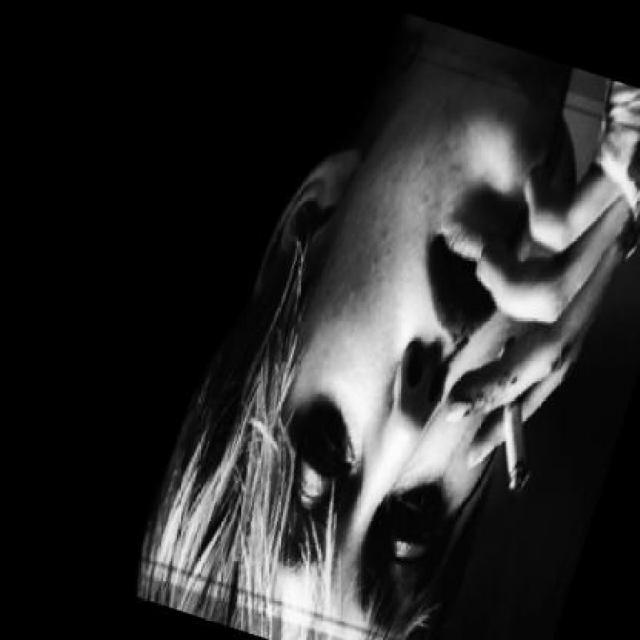smoke: (458, 333, 568, 498)
